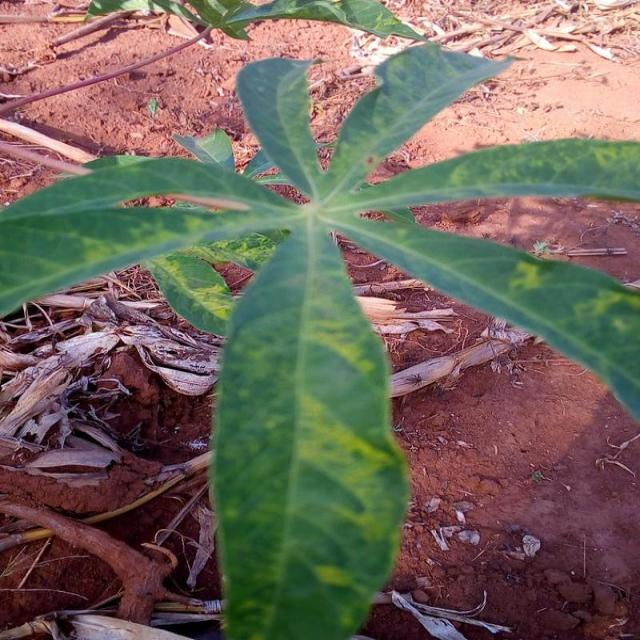cassava leaf: (0, 36, 638, 637), (210, 219, 412, 638)
